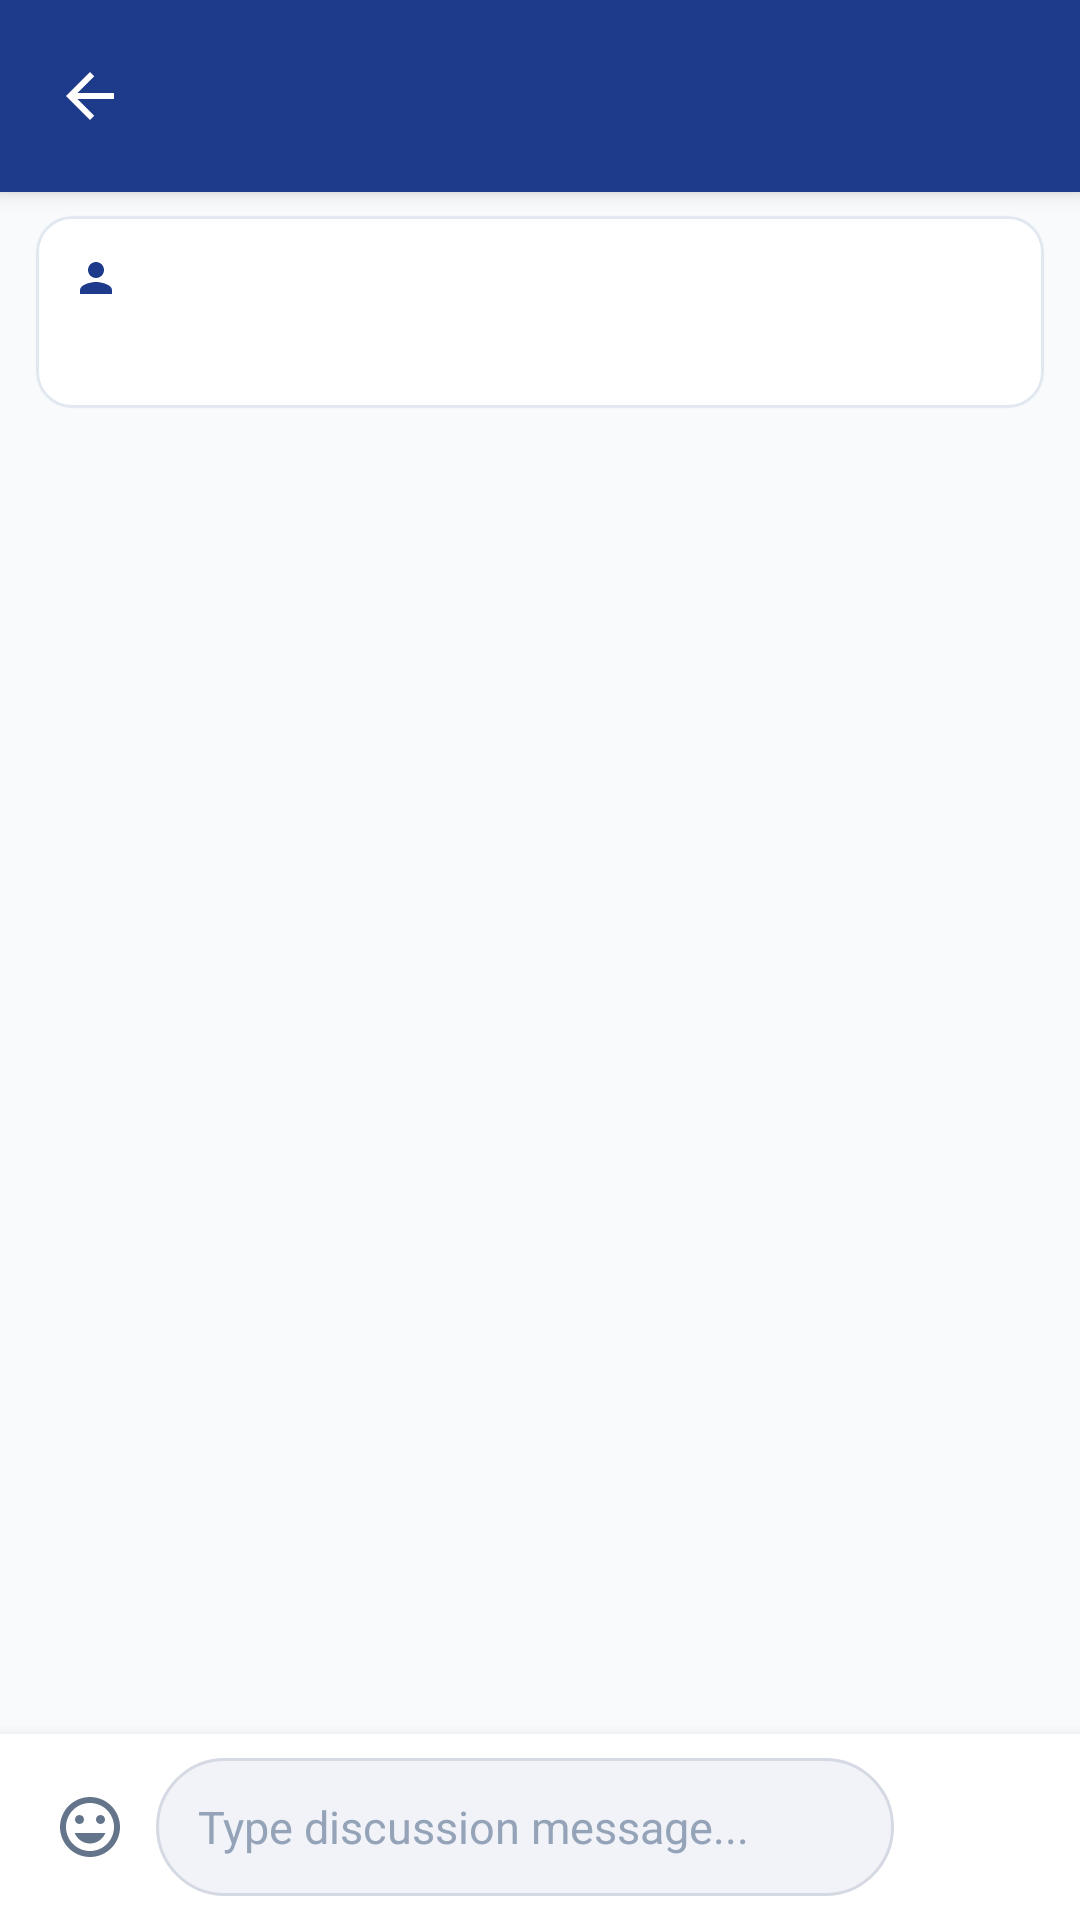

Icons on this 1080×1920 Android screen, each with its box as detection(x1, y1, x2, y2):
Back: detection(66, 72, 114, 120)
person: detection(80, 262, 112, 294)
Select emoji: detection(60, 1797, 120, 1857)
